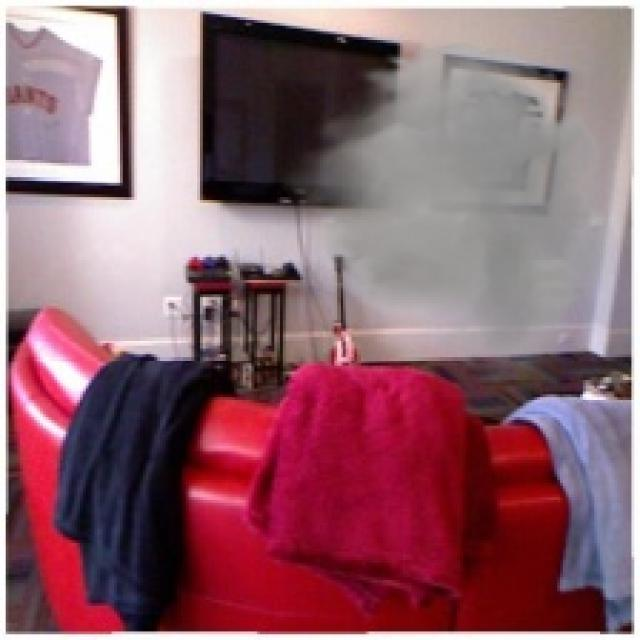Smoke: (274, 34, 632, 386)
